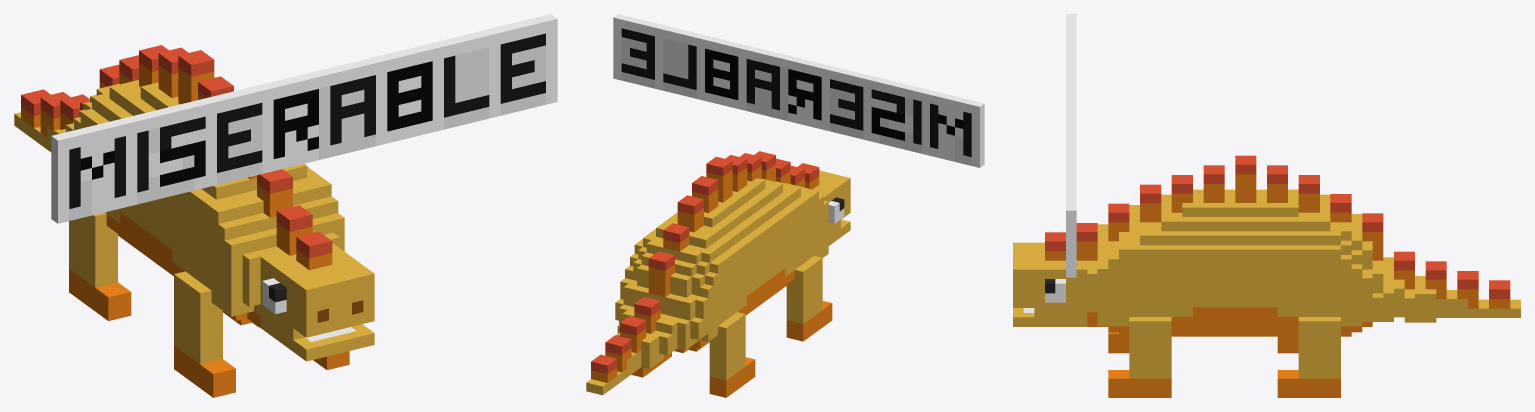
Rendered from dino-q0-d.obj.
3 renders of one model, left to right at view 1: azimuth 30°, elevation 25°; view 2: azimuth 150°, elevation 25°; view 3: azimuth 270°, elevation 25°, orthographic. The views are drawn at different scales.
Visible parts, largest first — view 1: Matrix_9; view 2: Matrix_9; view 3: Matrix_9.
Part boxes in pixels (x1,y1,x2,y2): Matrix_9: [14, 14, 557, 397]; Matrix_9: [586, 14, 984, 397]; Matrix_9: [1013, 14, 1520, 397].
Size of the model in its own units: 44 by 27 by 48.
Materials: 1 (1 with a texture image).
